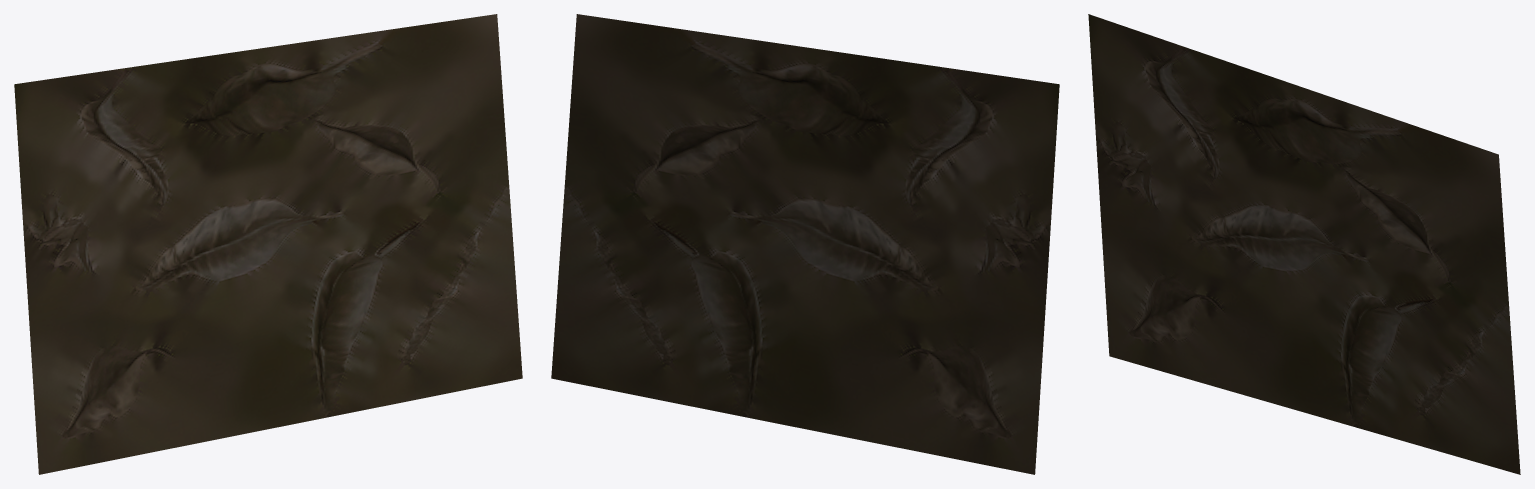
File: TI_Old_Foliage_05.fbx
The picture shows the model from 3 angles, left to right: view 1: azimuth 30°, elevation 25°; view 2: azimuth 150°, elevation 25°; view 3: azimuth 330°, elevation 25°; orthographic projection. The views are drawn at different scales.
Parts seen in each view (by area): view 1: TI_Old_Foliage_05; view 2: TI_Old_Foliage_05; view 3: TI_Old_Foliage_05.
Boxes of the visible parts, bbox=[...] form: TI_Old_Foliage_05: bbox=[14, 14, 522, 474]; TI_Old_Foliage_05: bbox=[551, 14, 1059, 474]; TI_Old_Foliage_05: bbox=[1088, 14, 1520, 474].
Size of the model in its own units: 0.6491 by 0.5103 by 8.31e-08.
